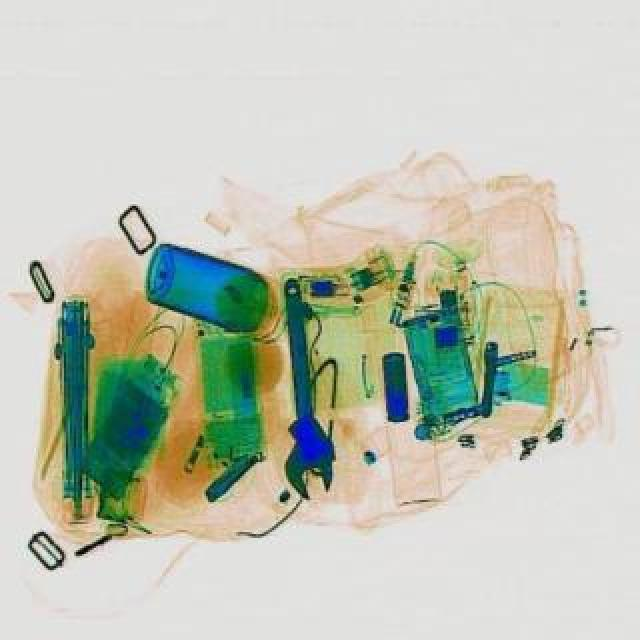scissors: (260, 274, 340, 500)
